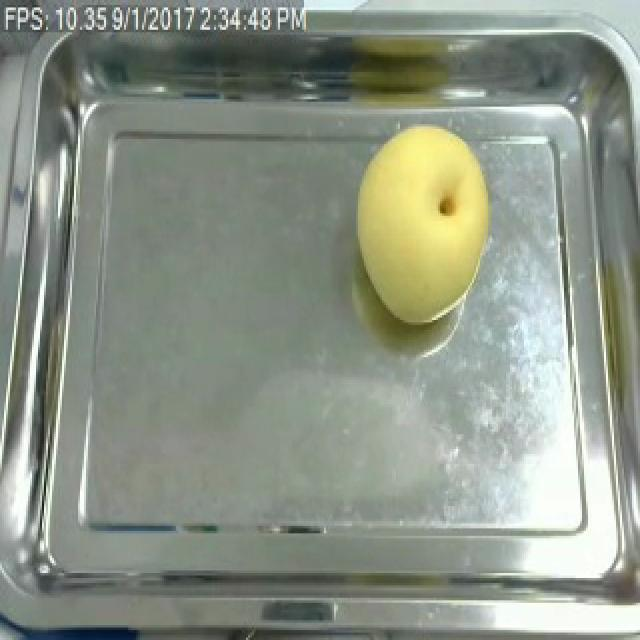Fruit: (348, 114, 502, 330)
